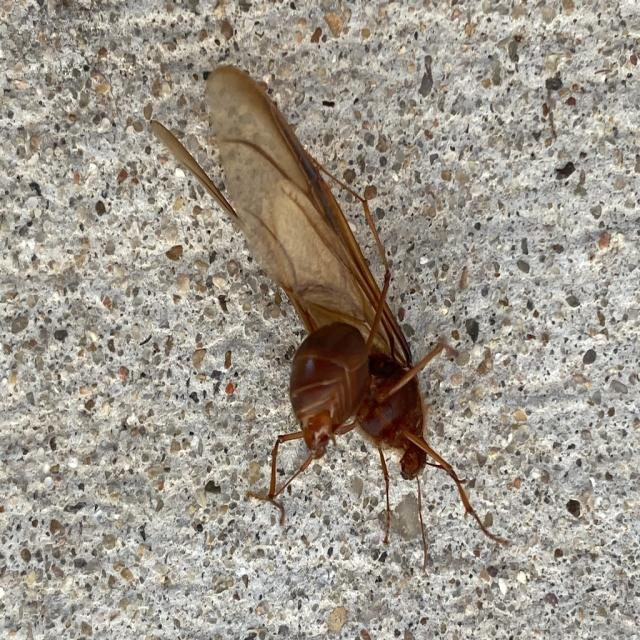Dead-Male-Alate: (150, 64, 511, 574)
